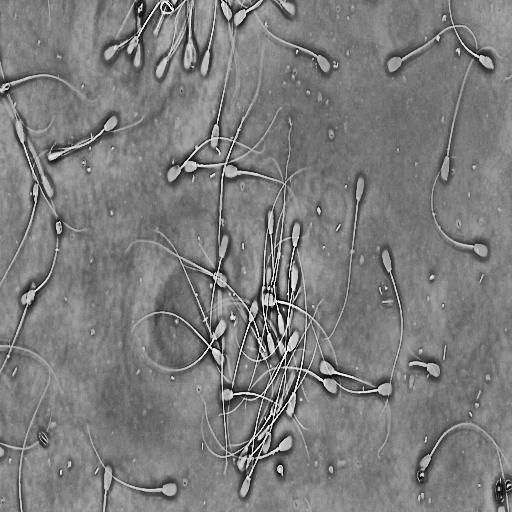coiled-tail: (408, 360, 428, 367)
dirt-particles: (492, 475, 505, 505), (415, 466, 428, 484), (54, 218, 64, 239), (275, 461, 286, 476), (504, 478, 512, 493)
loose-tail: (16, 358, 54, 512), (219, 322, 229, 476)
normal: (437, 42, 507, 188), (315, 166, 369, 350), (153, 228, 225, 366), (176, 260, 268, 363), (14, 121, 88, 236), (317, 355, 394, 464), (307, 313, 397, 402), (181, 101, 285, 176), (86, 419, 179, 499), (247, 0, 335, 83), (427, 152, 493, 261), (30, 113, 120, 189), (162, 131, 272, 189), (374, 239, 408, 425), (384, 19, 480, 80), (416, 417, 512, 476), (209, 0, 246, 151), (239, 344, 275, 498), (223, 332, 300, 402), (226, 297, 259, 460), (262, 235, 306, 356), (132, 311, 225, 367), (205, 401, 293, 460), (222, 162, 303, 225), (125, 240, 227, 288), (137, 318, 227, 372), (243, 364, 340, 413), (19, 197, 60, 307), (288, 220, 311, 403), (286, 224, 307, 419), (445, 0, 498, 73), (209, 235, 229, 363), (267, 208, 275, 332), (408, 353, 443, 378)
